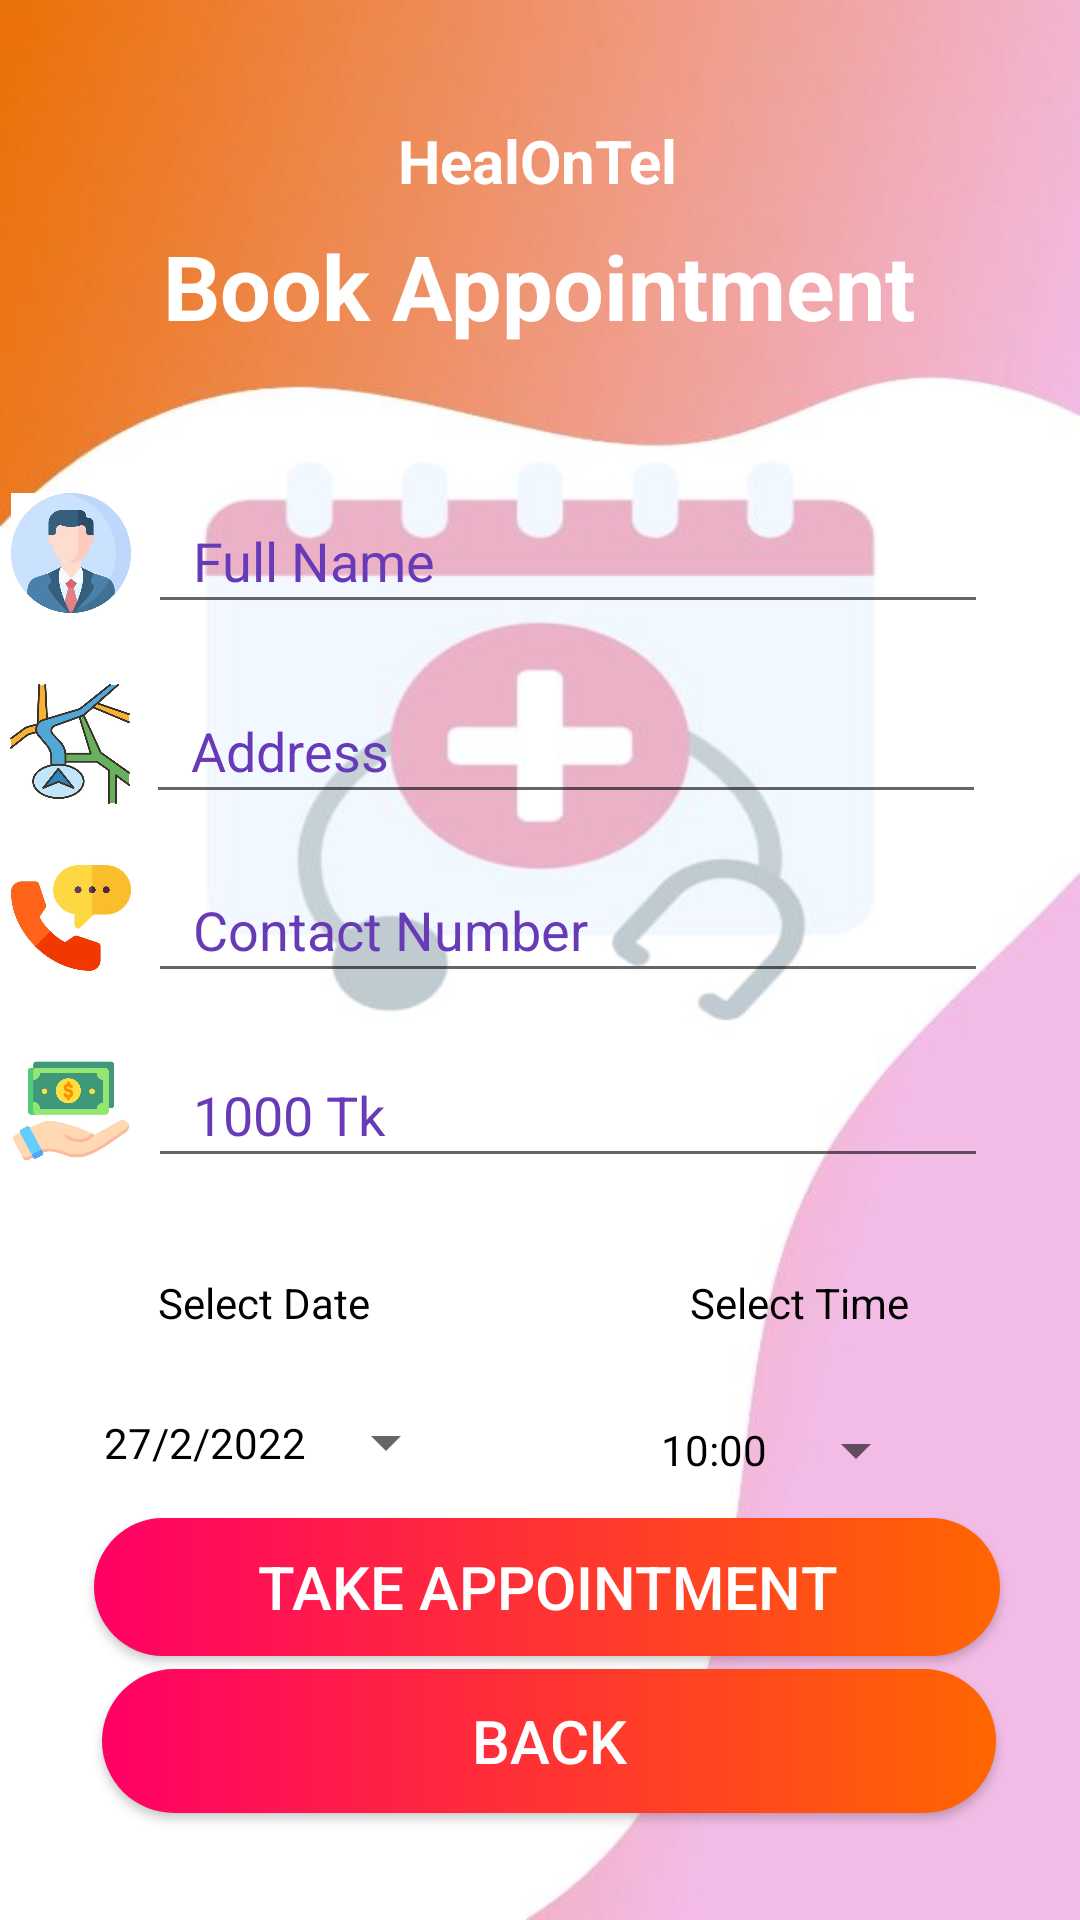

Icon bounding boxes for this 1080 × 1920 phone screenshot, format (x1,y1,x2,y2):
fees: (13,1061,129,1161)
location: (10,684,130,804)
phone: (11,865,131,971)
user: (11,493,131,613)
